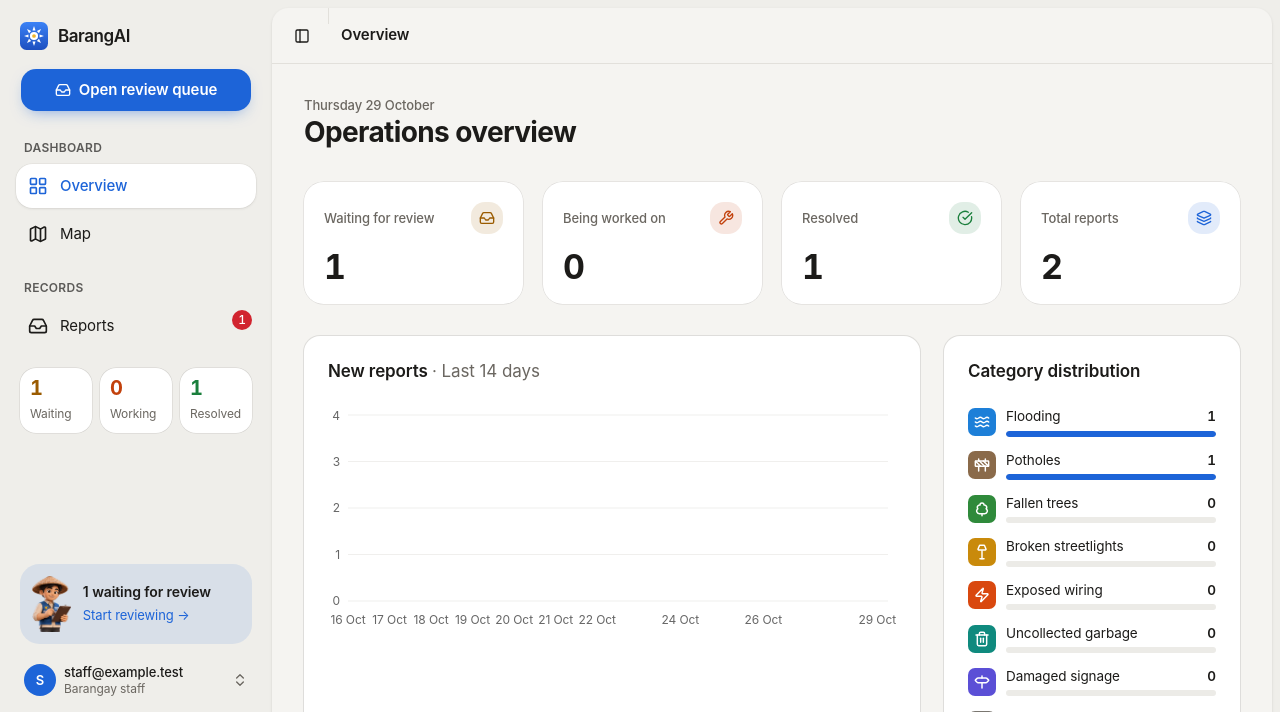
Test: staff overview › shows counts and filters the review list by status
The width and height of the screenshot is (1280, 712).
expect the heading "Operations overview" is shown: met, box [304,115,576,150]
Click the link "Reports".
click(71, 326)  # box [28,316,114,336]
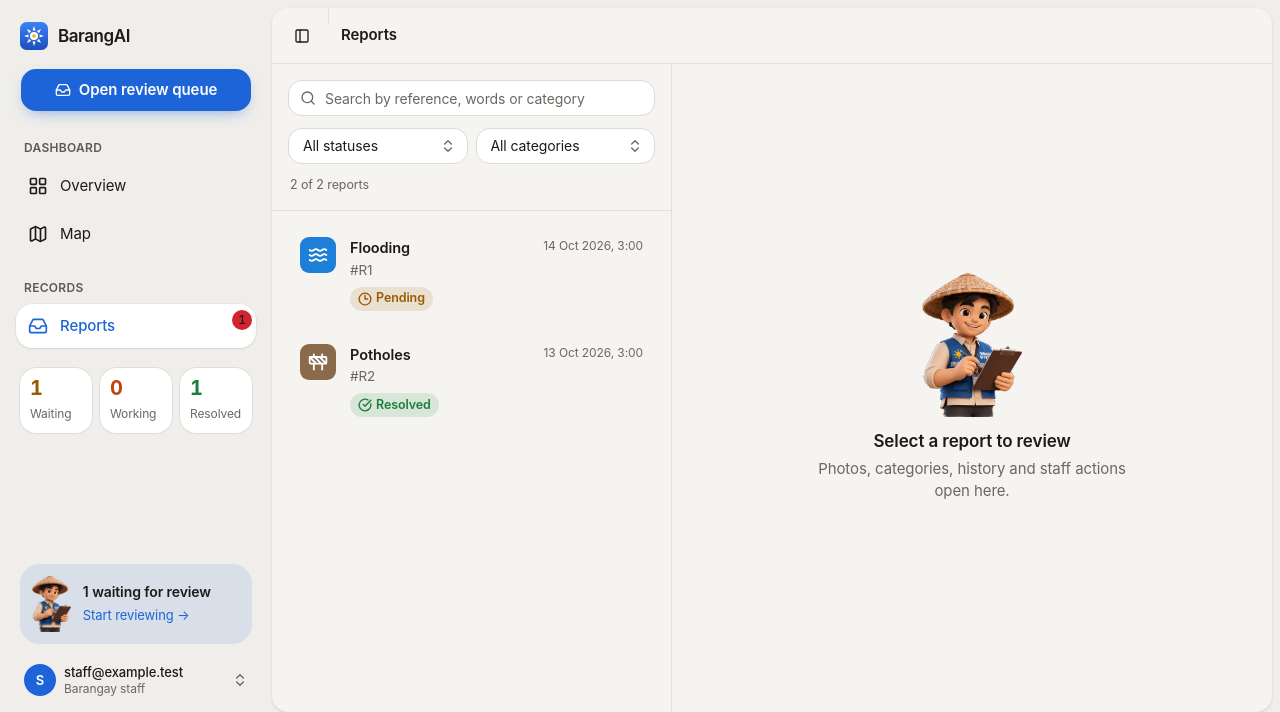
expect the number of links named "review report" is 2: met, box [284,223,659,326]; [284,330,659,433]
Select "Pending" in the dropdown named "Filter by status" at [378, 146], box [288,128,468,164]
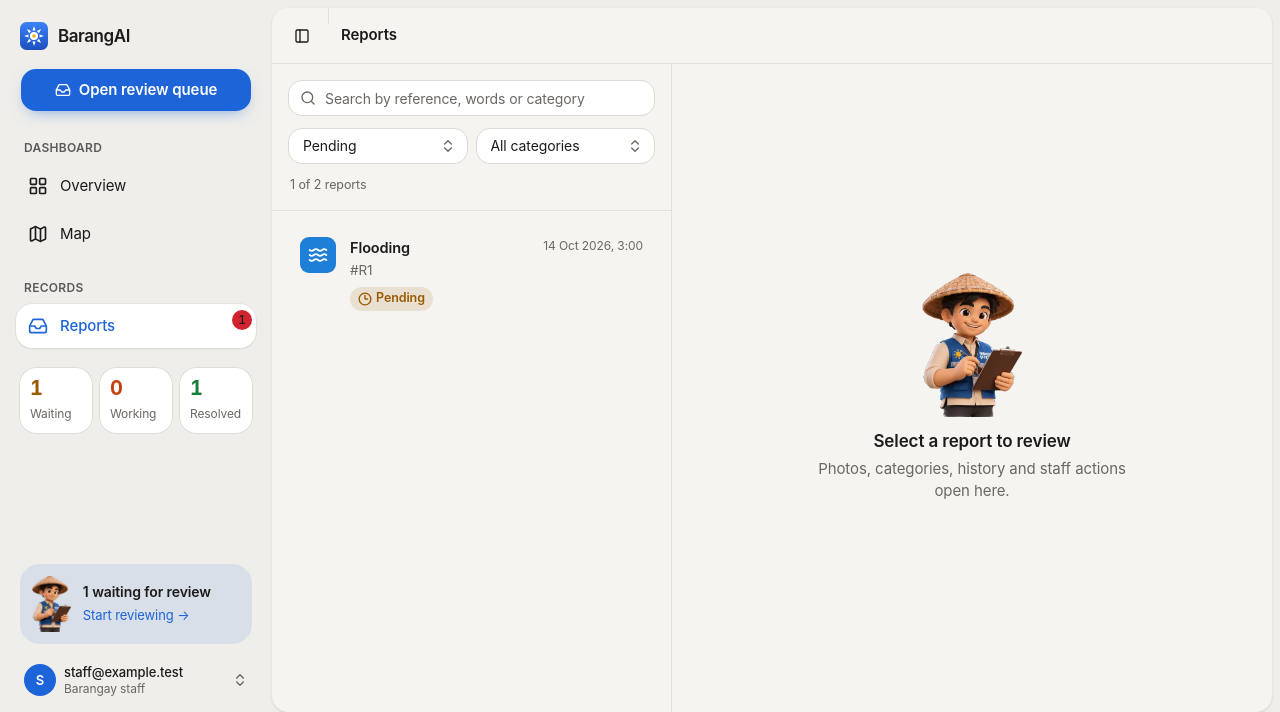
expect the number of links named "review report" is 1: met, box [284,223,659,326]
expect the text "1 of 2 reports" is shown: met, box [290,177,366,192]
